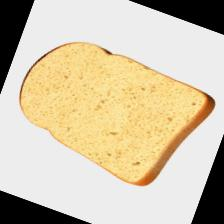bread: (1, 24, 220, 202)
